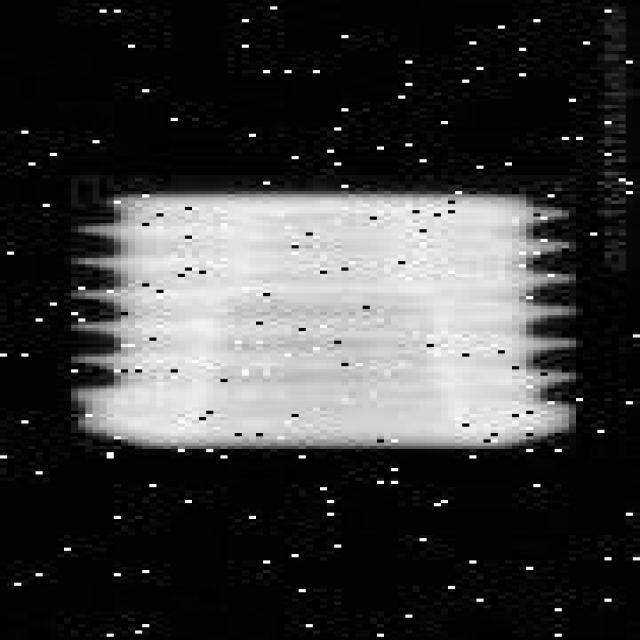Nobel Biocare Implant: (70, 172, 579, 452)
